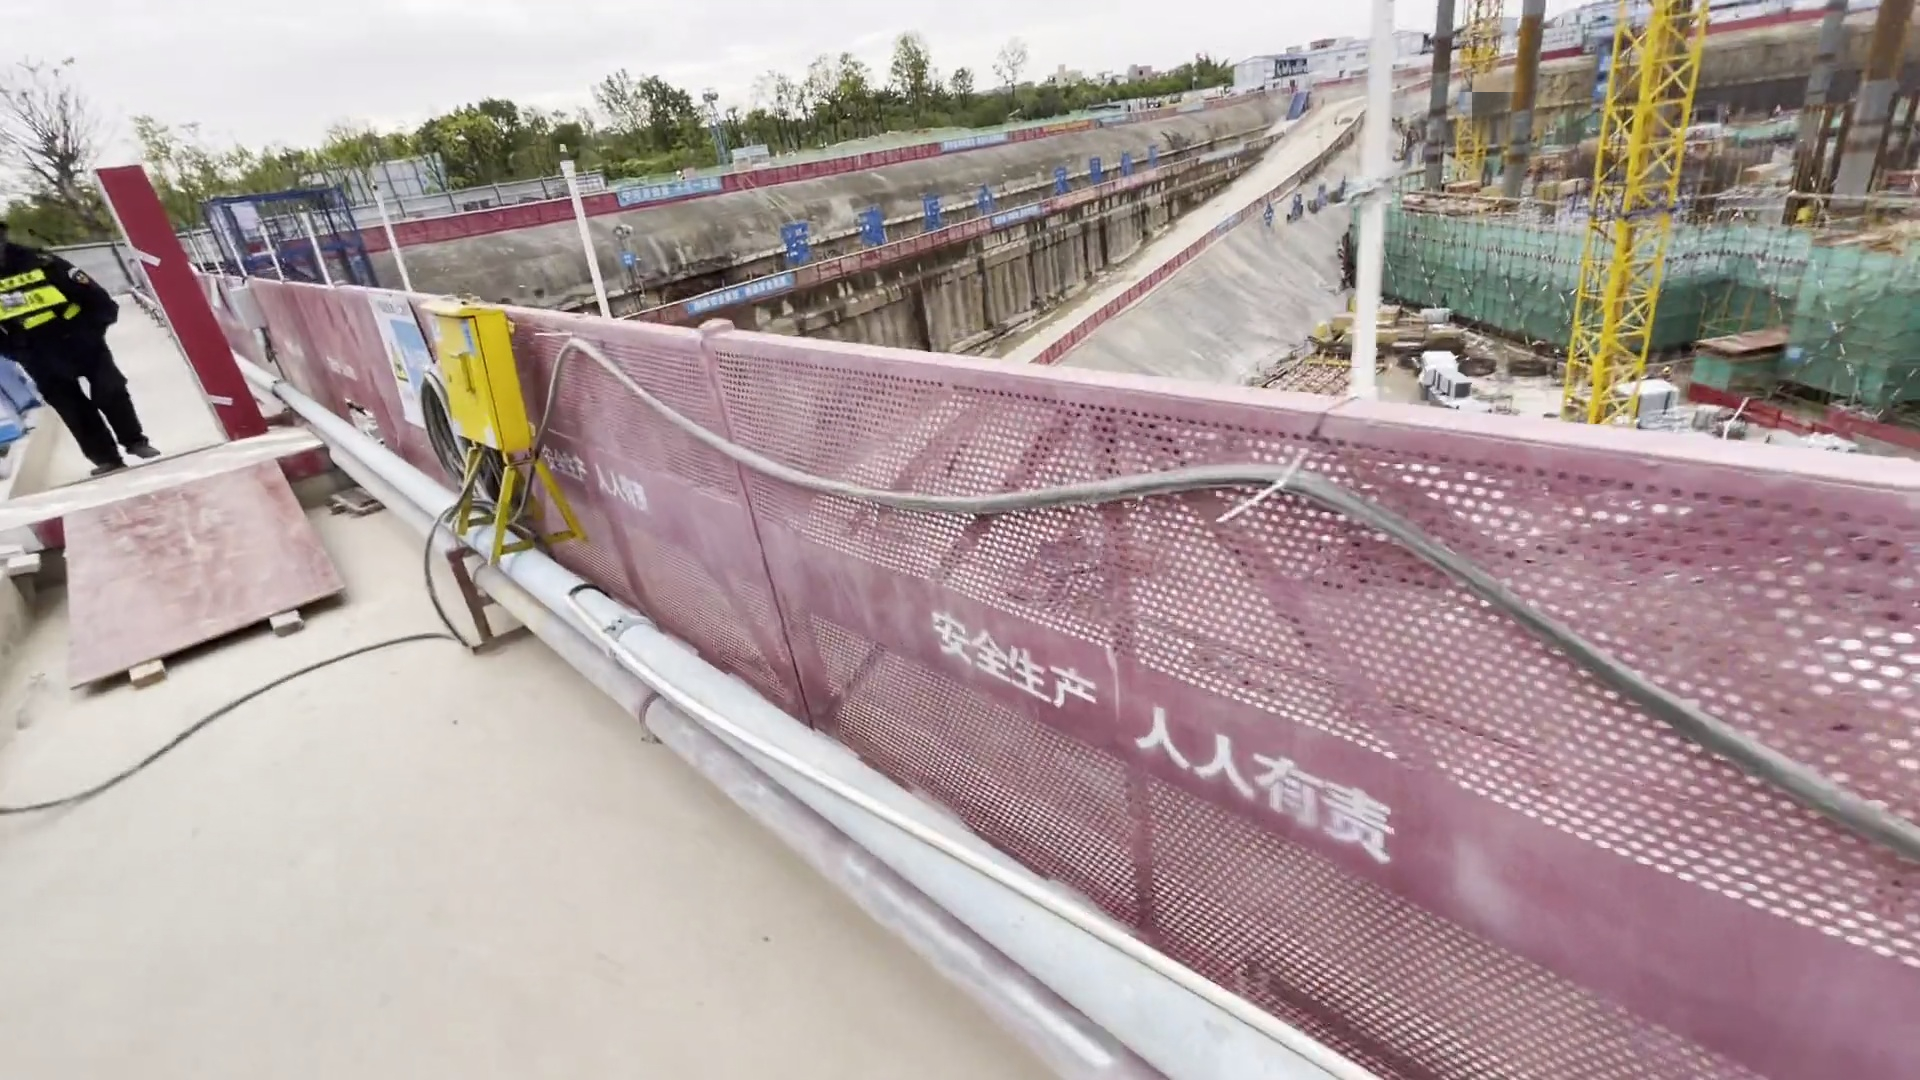board: (73, 451, 353, 704), (1382, 303, 1411, 346), (1334, 301, 1354, 348)
ebox: (395, 293, 557, 488)
fence: (810, 337, 1920, 1078), (200, 268, 821, 754), (641, 251, 880, 330), (354, 194, 644, 244)
person: (2, 214, 202, 485)
scaffold: (1416, 344, 1498, 415), (1625, 376, 1689, 426), (1693, 401, 1760, 443), (1422, 300, 1450, 324)
slogan: (353, 280, 441, 438), (677, 265, 807, 315), (614, 168, 731, 219), (987, 189, 1058, 239)
vest: (1, 247, 104, 350)
